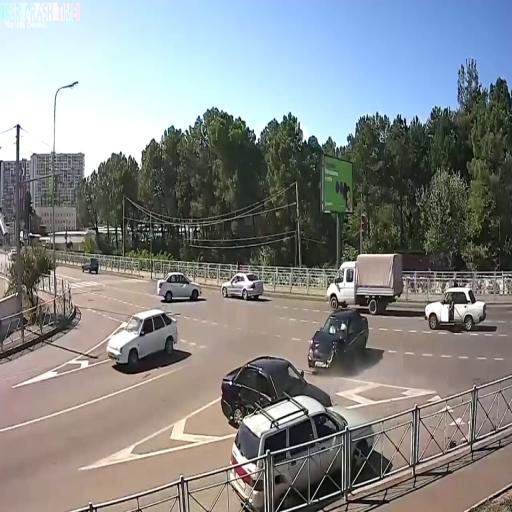小汽车: (230, 396, 374, 500), (222, 356, 314, 422), (324, 255, 404, 310), (106, 305, 178, 366), (309, 314, 369, 372), (425, 284, 487, 330), (158, 270, 203, 302), (220, 272, 266, 302), (81, 252, 100, 276)
